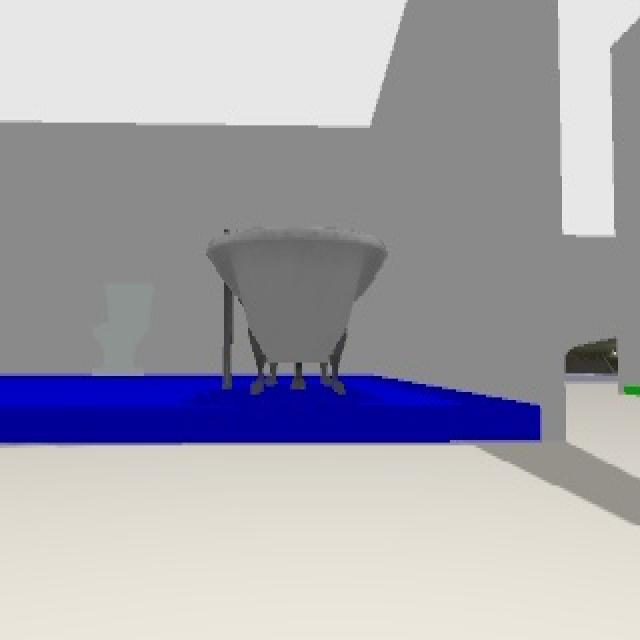bathtub: (206, 227, 390, 395)
